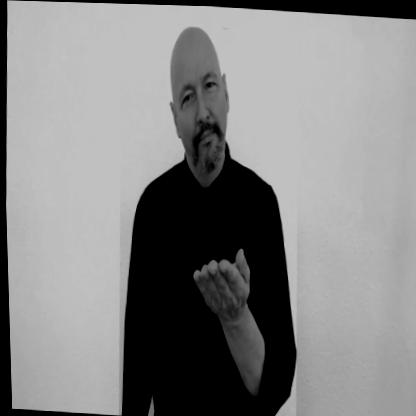ThankYou: (106, 21, 307, 416)
